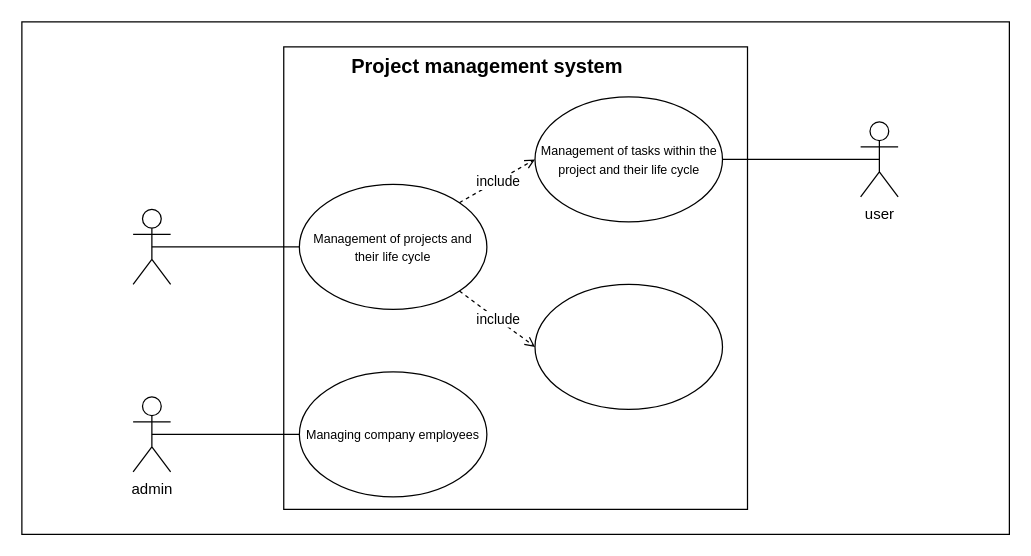
Image size: 1031x556. Some labels were removed from this diagram. The centre of each missing label's shape, as x and y in pixels:
"manager" goes at [151,246].
"Managing teams within the project" goes at [628,346].
